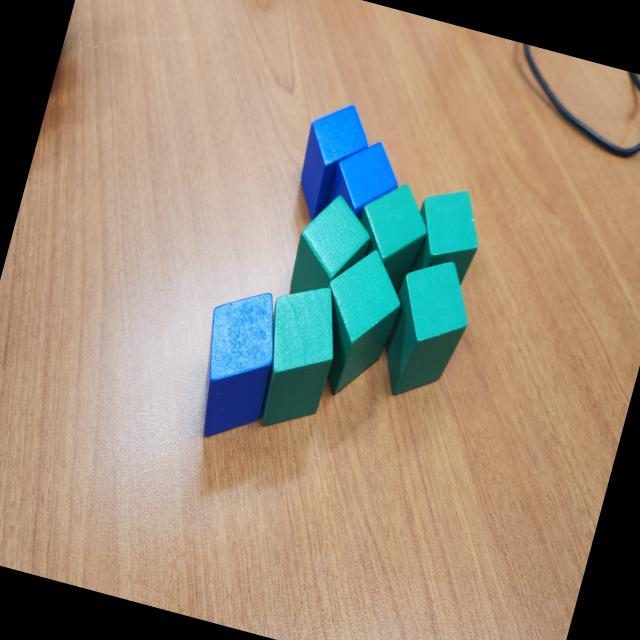blue: (180, 278, 294, 452), (287, 96, 378, 231), (323, 132, 408, 228)
green: (299, 240, 412, 406), (242, 274, 351, 440), (371, 250, 482, 410), (340, 174, 440, 300), (283, 186, 380, 314), (402, 180, 492, 290)
